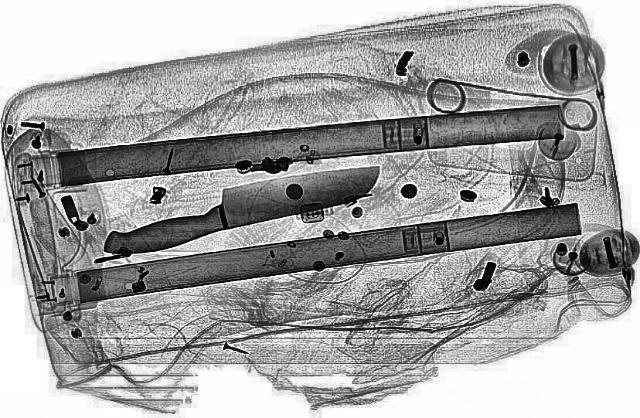Knife: (83, 156, 400, 260)
